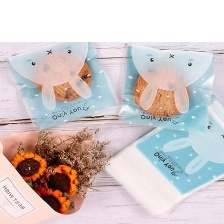snack: (0, 42, 125, 136), (112, 42, 224, 139)
